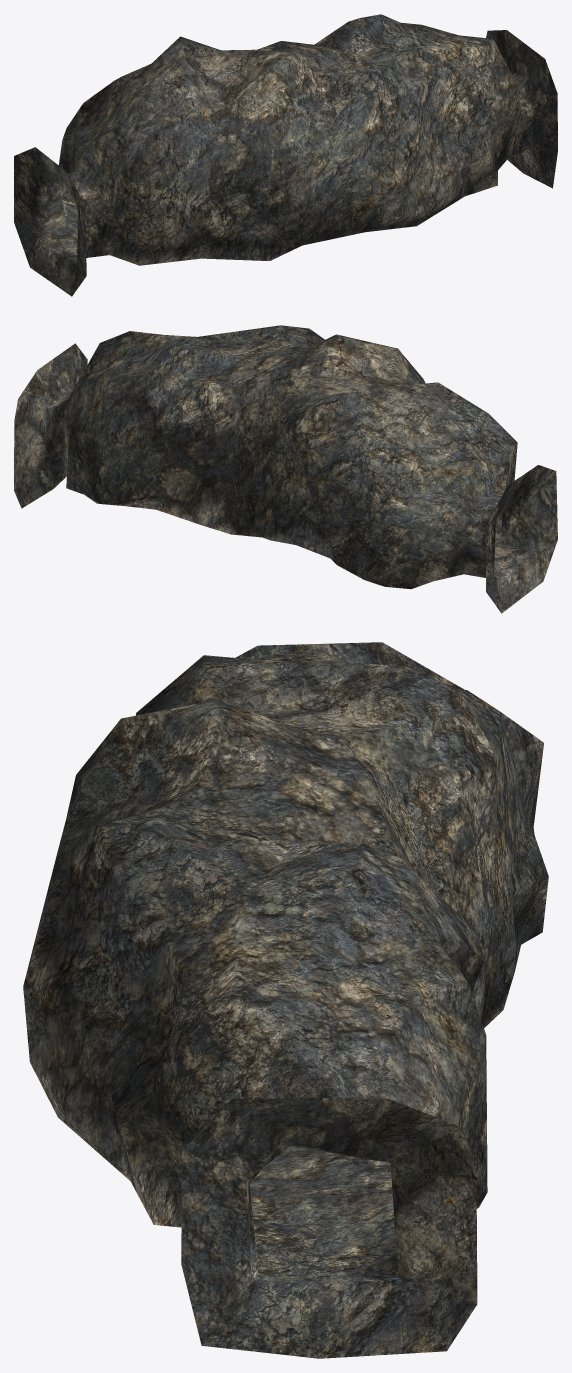
The model's file is Module19_LOD2.fbx.
3 renders of one model, top to bottom at view 1: azimuth 30°, elevation 25°; view 2: azimuth 150°, elevation 25°; view 3: azimuth 270°, elevation 25°, orthographic. The views are drawn at different scales.
Visible parts, largest first — view 1: cave_el19_1300_Group50935; view 2: cave_el19_1300_Group50935; view 3: cave_el19_1300_Group50935.
Boxes of the visible parts, left/top/right/bottom form: cave_el19_1300_Group50935: left=14, top=14, right=557, bottom=296; cave_el19_1300_Group50935: left=14, top=325, right=557, bottom=613; cave_el19_1300_Group50935: left=23, top=642, right=548, bottom=1358.
Bounding box in the file's own units: 30.76 × 12.44 × 14.92.
